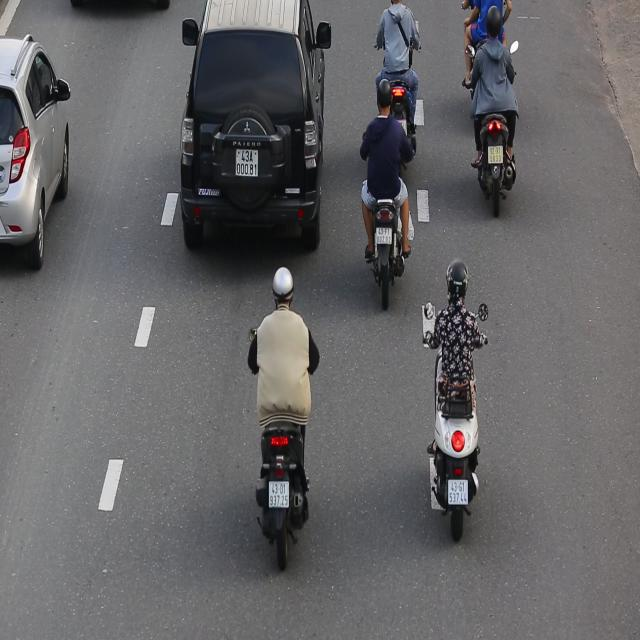motorbike: (245, 262, 325, 574), (419, 256, 491, 548), (356, 74, 418, 314), (462, 0, 524, 220)
